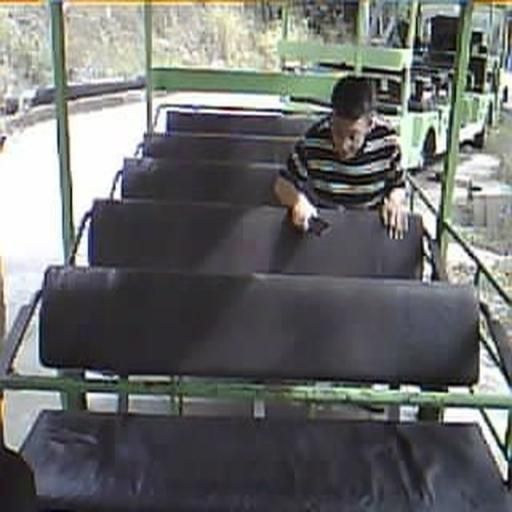persona: (270, 73, 412, 243)
